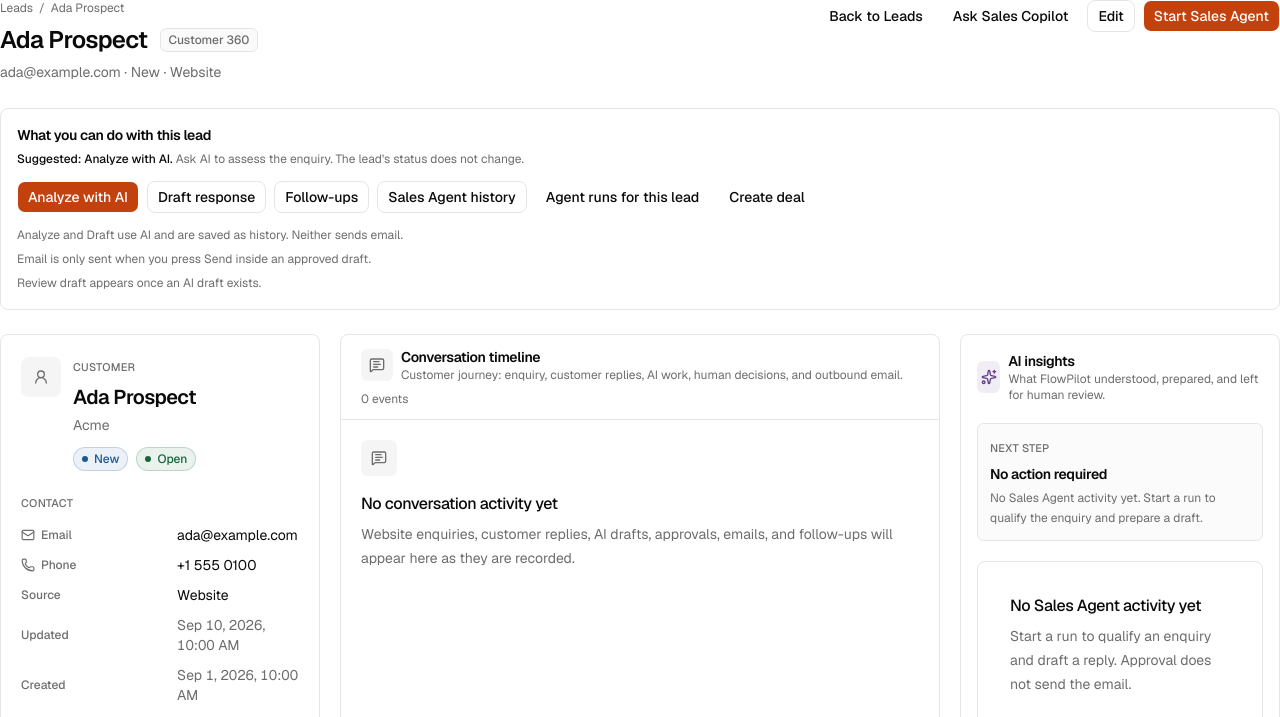
Test case: Lead workspace › shows the stored enquiry and prefills Start Sales Agent
The image size is (1280, 717).
Expected: the heading "Ada Prospect" next to "Customer 360" does not show "We want a hosted demo", x1=0 y1=24 x2=148 y2=56
Click the button "Start Sales Agent" in the row of "Ask Sales Copilot": (1211, 16) x1=1143 y1=0 x2=1279 y2=32
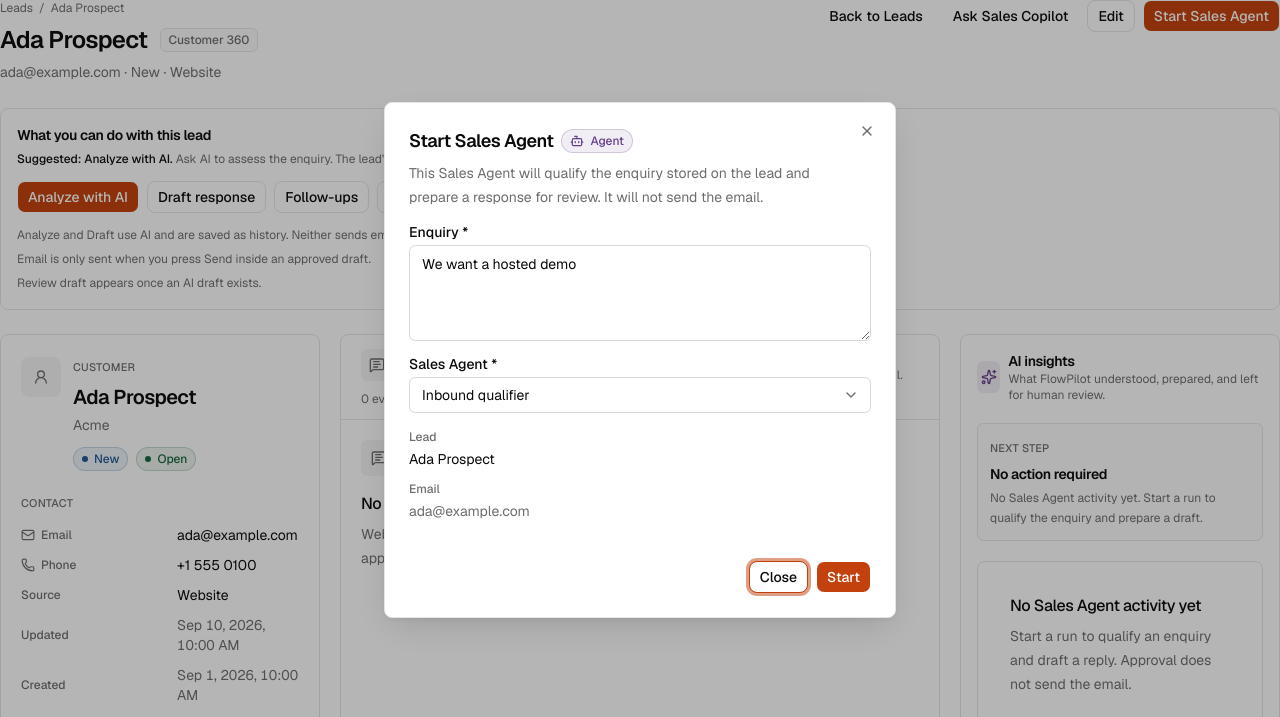
Expected: the heading "Start Sales Agent" is shown, x1=409 y1=127 x2=553 y2=155
Expected: the text box labelled "Enquiry *" holds "We want a hosted demo", x1=409 y1=245 x2=871 y2=341
